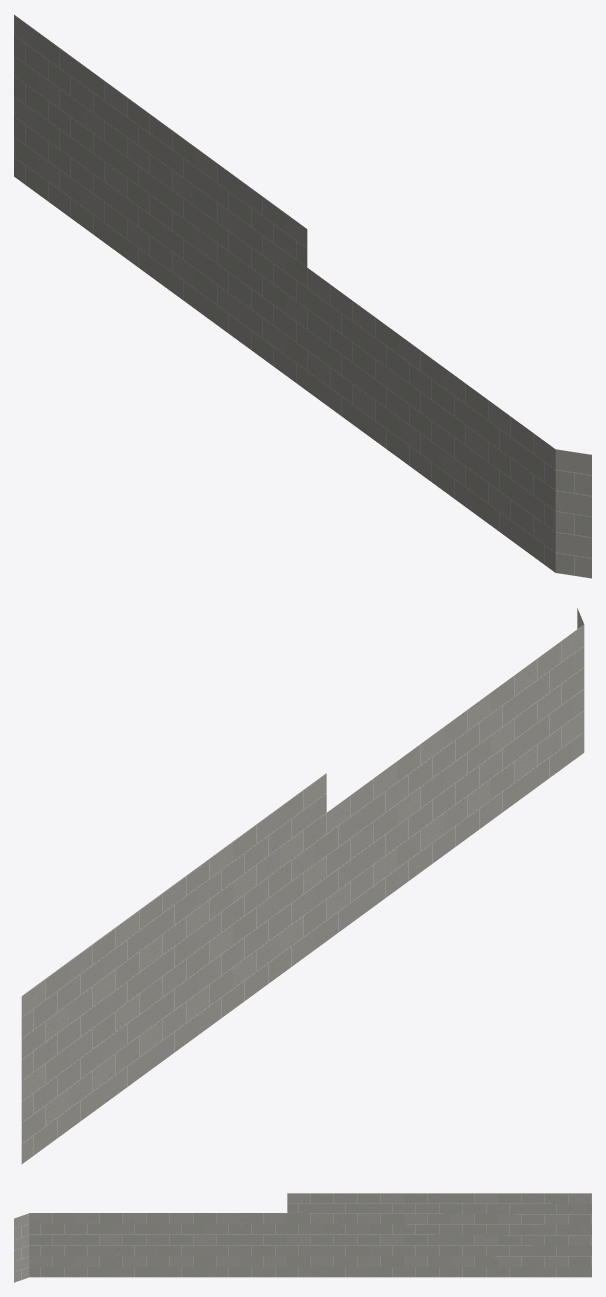
The model's file is kd_stage_135c43_3_0_bounded_piece_3.glb.
3 renders of one model, top to bottom at view 1: azimuth 30°, elevation 25°; view 2: azimuth 150°, elevation 25°; view 3: azimuth 270°, elevation 25°, orthographic. The views are drawn at different scales.
Parts seen in each view (by area): view 1: kd_stage_135c43_3_0_bounded_piece_3; view 2: kd_stage_135c43_3_0_bounded_piece_3; view 3: kd_stage_135c43_3_0_bounded_piece_3.
Boxes of the visible parts, x1,y1,x2,y2 form: kd_stage_135c43_3_0_bounded_piece_3: (14,14,591,578); kd_stage_135c43_3_0_bounded_piece_3: (21,608,584,1163); kd_stage_135c43_3_0_bounded_piece_3: (14,1193,591,1282).
Size of the model in its own units: 0.1767 by 1.27 by 7.88.
Materials: 1 (1 with a texture image).
